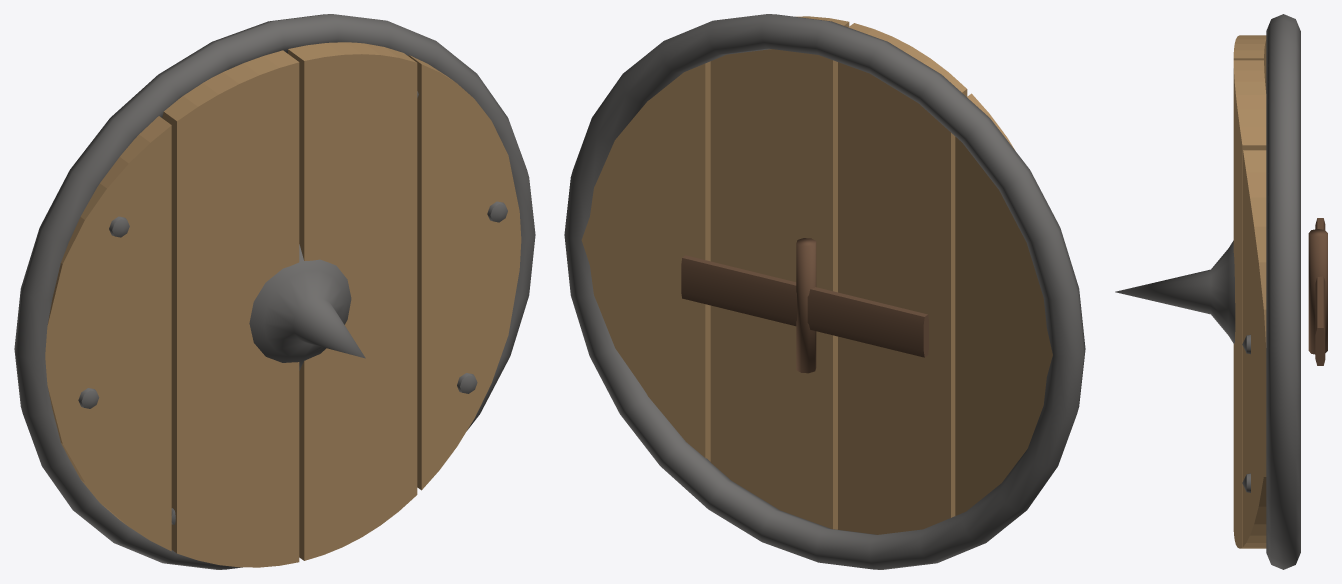
Rendered from spiked-light-shield.glb.
3 views of the same model, side by side, from view 1: azimuth 30°, elevation 25°; view 2: azimuth 150°, elevation 25°; view 3: azimuth 270°, elevation 25° (orthographic). The views are drawn at different scales.
Visible parts, largest first — view 1: spiked-light-shield; view 2: spiked-light-shield; view 3: spiked-light-shield.
Boxes of the visible parts, box(x1,y1,x2,y2) form: spiked-light-shield: box(14, 14, 535, 569); spiked-light-shield: box(564, 14, 1085, 569); spiked-light-shield: box(1115, 14, 1327, 569).
Bounding box in the file's own units: 1.28 × 1.28 × 0.492.
